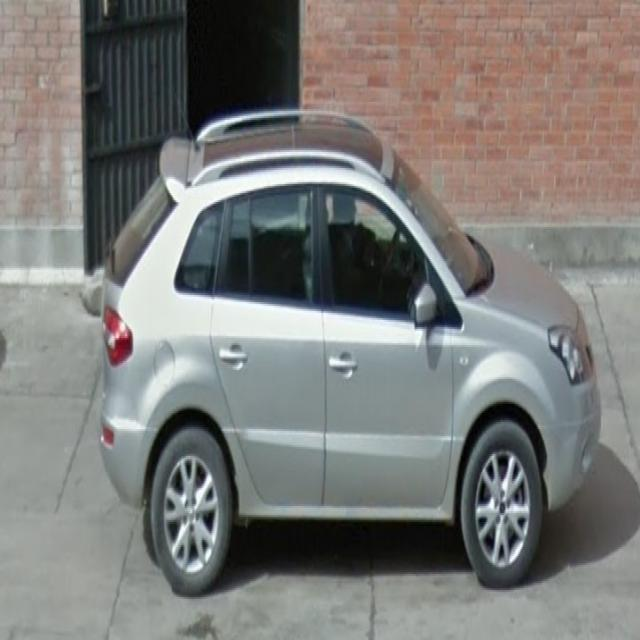cars: (87, 116, 592, 602)
